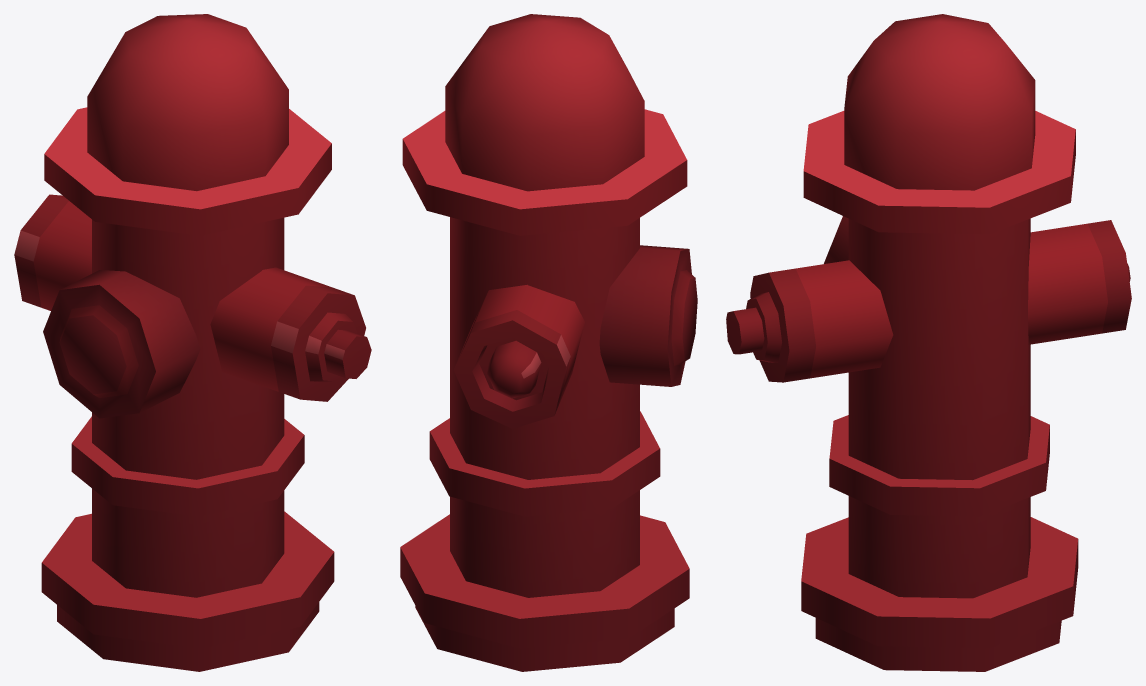
The model's file is FireHydrant.fbx.
3 renders of one model, left to right at view 1: azimuth 30°, elevation 25°; view 2: azimuth 150°, elevation 25°; view 3: azimuth 270°, elevation 25°, orthographic.
Visible parts, largest first — view 1: Cube.001; view 2: Cube.001; view 3: Cube.001.
Part boxes in pixels (x1,y1,x2,y2): Cube.001: (14, 14, 371, 671); Cube.001: (400, 14, 697, 671); Cube.001: (726, 14, 1131, 671).
Size of the model in its own units: 71.43 by 160 by 98.77.
